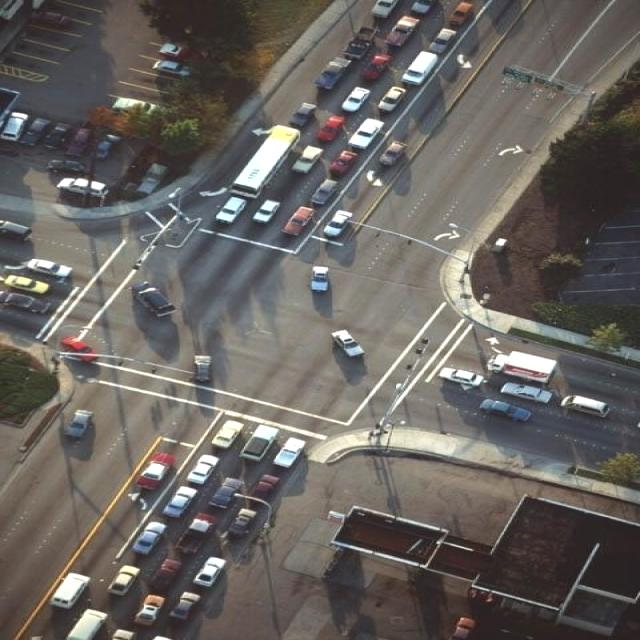Carro Branco: (49, 573, 95, 610), (269, 438, 314, 470), (400, 52, 446, 82), (184, 450, 220, 484), (194, 556, 232, 588), (436, 365, 482, 390), (348, 118, 386, 146), (562, 394, 610, 416), (339, 86, 376, 112), (27, 256, 72, 277)
Carro Prata: (496, 381, 554, 402), (209, 478, 241, 510), (331, 327, 364, 358)
Carro Preto: (128, 282, 178, 320), (474, 396, 533, 421), (0, 292, 56, 316), (186, 353, 218, 384), (0, 222, 35, 242)
Carro Vermelho: (131, 448, 181, 492), (176, 511, 222, 553), (150, 553, 192, 588), (280, 205, 318, 236), (61, 335, 98, 364), (361, 51, 394, 83), (319, 112, 349, 142), (250, 474, 285, 499), (324, 151, 356, 176)
